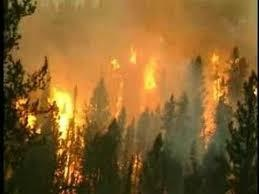fire: (16, 83, 88, 179), (198, 50, 233, 140), (129, 47, 162, 93)
